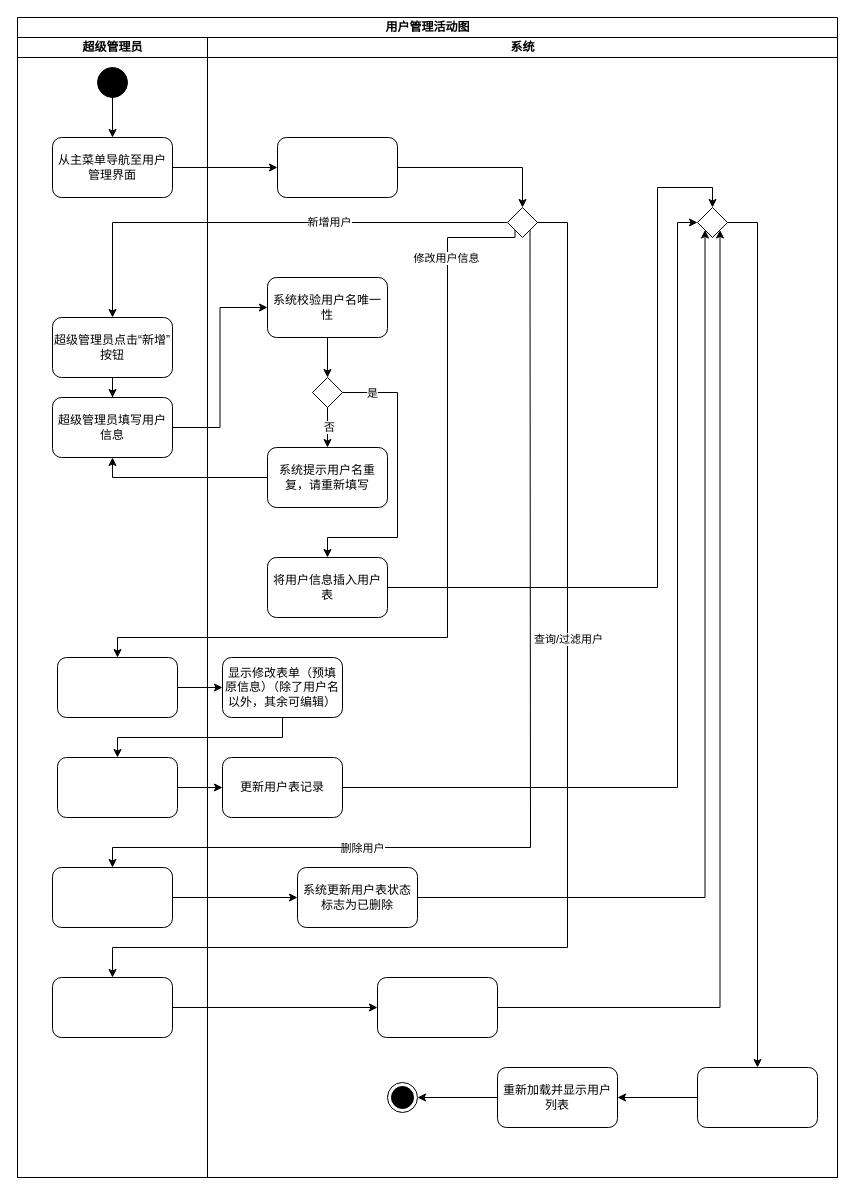
Image size: 855x1195. Some labels were removed from this diagram. The box of each missing label's shape, as (x1, y1, x2, y2) in pixels:
显示用户列表: (276, 136, 398, 198)
更新除用户名外的信息: (56, 756, 178, 818)
查询用户表闭关刷新列表显示: (376, 976, 498, 1038)
系统记录操作日志: (696, 1066, 818, 1128)
超级管理员选择一条或多条记录，点击删除: (52, 866, 172, 928)
超级管理员选择用户并点击修改: (56, 656, 178, 718)
输入用户名、部门等条件: (52, 976, 172, 1038)
